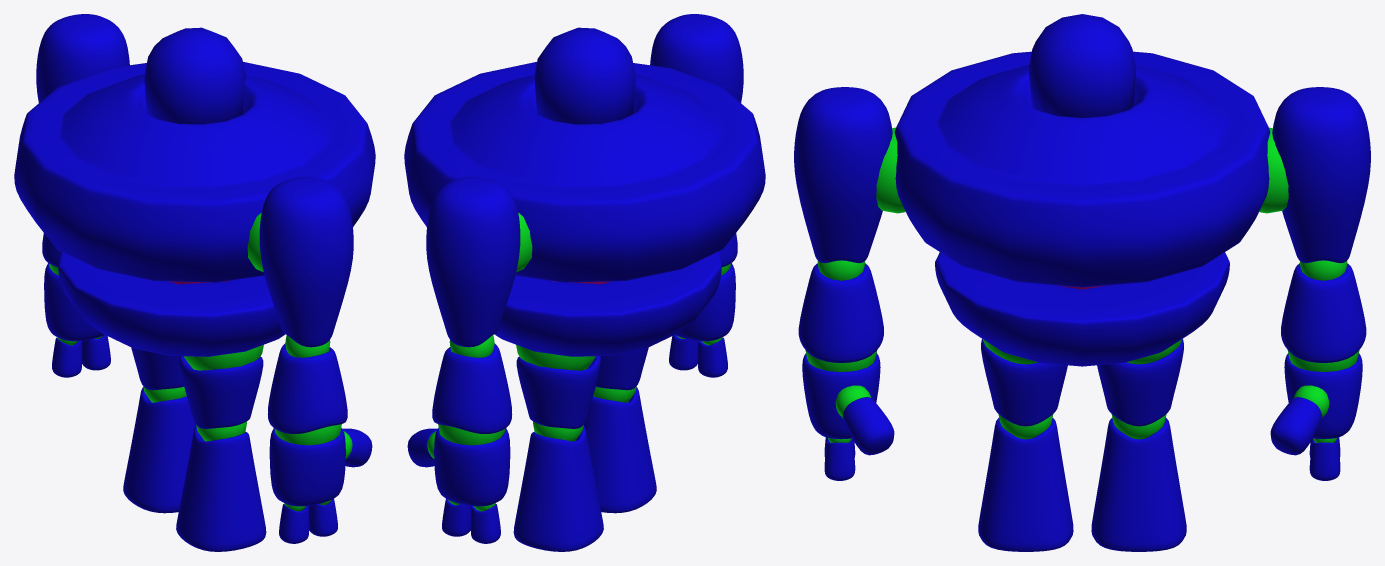
The model's file is Golem(ThisOne).fbx.
3 renders of one model, left to right at view 1: azimuth 30°, elevation 25°; view 2: azimuth 150°, elevation 25°; view 3: azimuth 270°, elevation 25°, orthographic. The views are drawn at different scales.
Visible parts, largest first — view 1: Golem; view 2: Golem; view 3: Golem.
Part boxes in pixels (x1,y1,x2,y2): Golem: [14, 14, 375, 551]; Golem: [404, 14, 765, 551]; Golem: [794, 14, 1370, 551].
Size of the model in its own units: 154 by 225 by 228.
